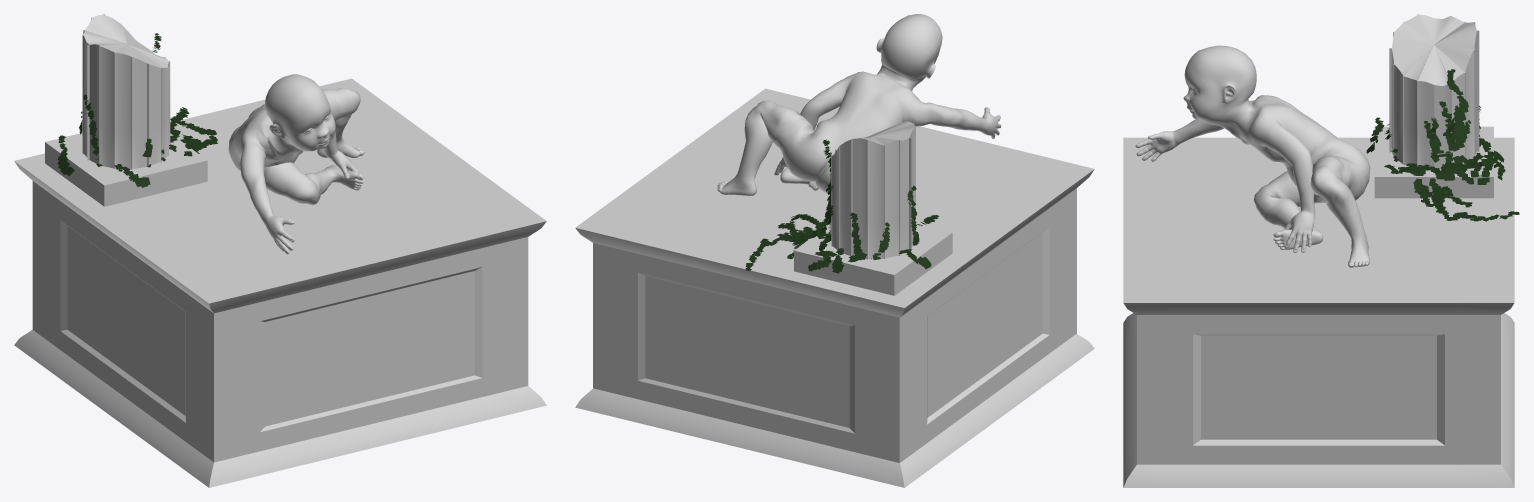
Rendered from baby_statue.fbx.
3 renders of one model, left to right at view 1: azimuth 30°, elevation 25°; view 2: azimuth 150°, elevation 25°; view 3: azimuth 270°, elevation 25°, orthographic. The views are drawn at different scales.
Parts seen in each view (by area): view 1: column, IvyLeaf; view 2: column, IvyLeaf; view 3: column, IvyLeaf.
Boxes of the visible parts, x1,y1,x2,y2 form: column: (14,14,546,487); IvyLeaf: (57,33,217,187); column: (575,14,1094,487); IvyLeaf: (745,139,939,273); column: (1123,14,1514,487); IvyLeaf: (1366,69,1519,221).
Size of the model in its own units: 215 by 207 by 218.
